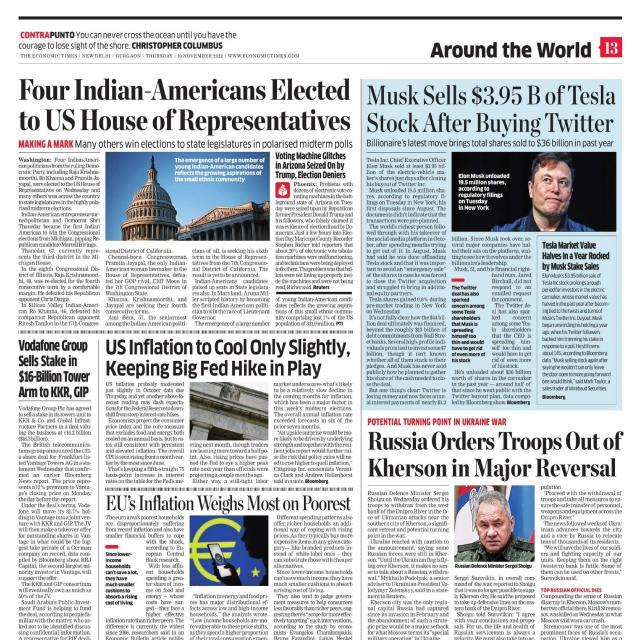Article: (16, 70, 357, 335), (364, 79, 620, 412), (368, 428, 626, 640), (104, 332, 353, 495), (103, 490, 354, 640), (17, 333, 91, 640)
Body: (365, 156, 447, 406), (18, 442, 93, 640), (18, 156, 102, 326), (540, 483, 624, 640), (367, 490, 450, 640), (273, 515, 353, 640), (275, 181, 353, 290), (542, 272, 612, 392), (272, 382, 354, 484), (104, 381, 185, 484), (105, 248, 188, 328), (192, 248, 272, 326), (453, 574, 537, 640), (490, 272, 532, 368), (189, 592, 269, 640), (188, 442, 270, 484), (146, 538, 185, 618), (451, 235, 533, 272), (451, 370, 532, 406), (275, 296, 354, 328), (104, 618, 186, 640), (105, 516, 186, 538)
Date: (146, 52, 224, 58)
Heading: (20, 76, 352, 136), (366, 82, 617, 138), (366, 429, 624, 482), (106, 338, 352, 378), (106, 494, 354, 514), (18, 338, 91, 400), (542, 239, 610, 271)
Highlights: (17, 30, 237, 50), (18, 138, 354, 150), (451, 285, 487, 363), (18, 405, 92, 442), (366, 139, 614, 149), (276, 150, 346, 180), (456, 173, 511, 210), (105, 550, 138, 606)
Image: (105, 152, 270, 241), (513, 152, 597, 232), (454, 486, 534, 562), (190, 516, 268, 586), (190, 382, 268, 440)
Name: (428, 41, 592, 58), (19, 53, 78, 59)
